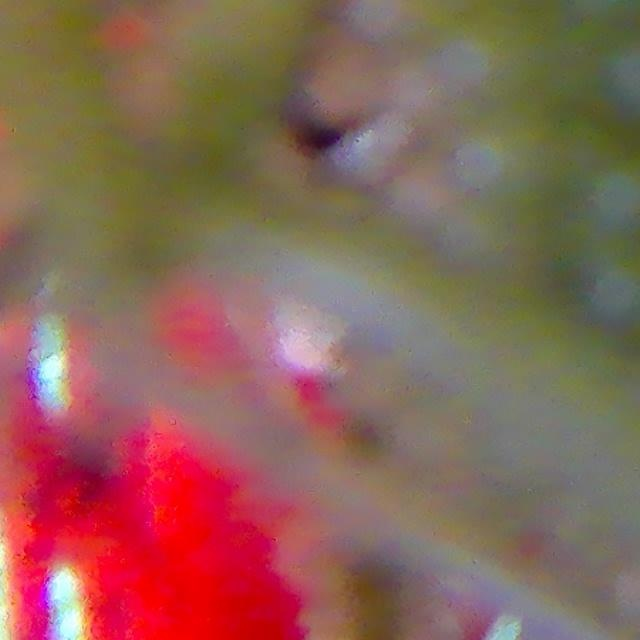SeaGrape: (586, 150, 640, 235)
